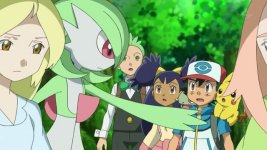gardevoir: (41, 1, 208, 150)
